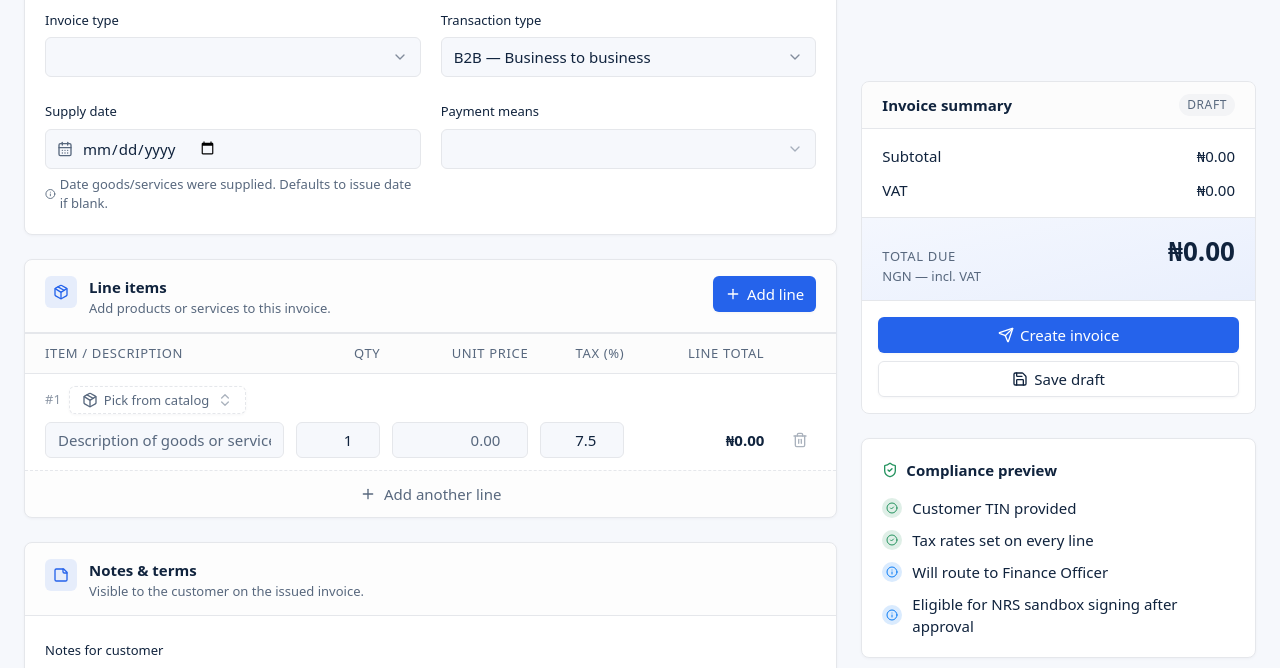
Test: CreateInvoice catalog product description adoption › falls back to product.name when product has no description
The width and height of the screenshot is (1280, 668).
(page scrolled)
What coordinates should you click on to do the following:
click the dropdown "Pick from catalog"
I would click on:
 (158, 400)
Its box is [69,386,246,414].
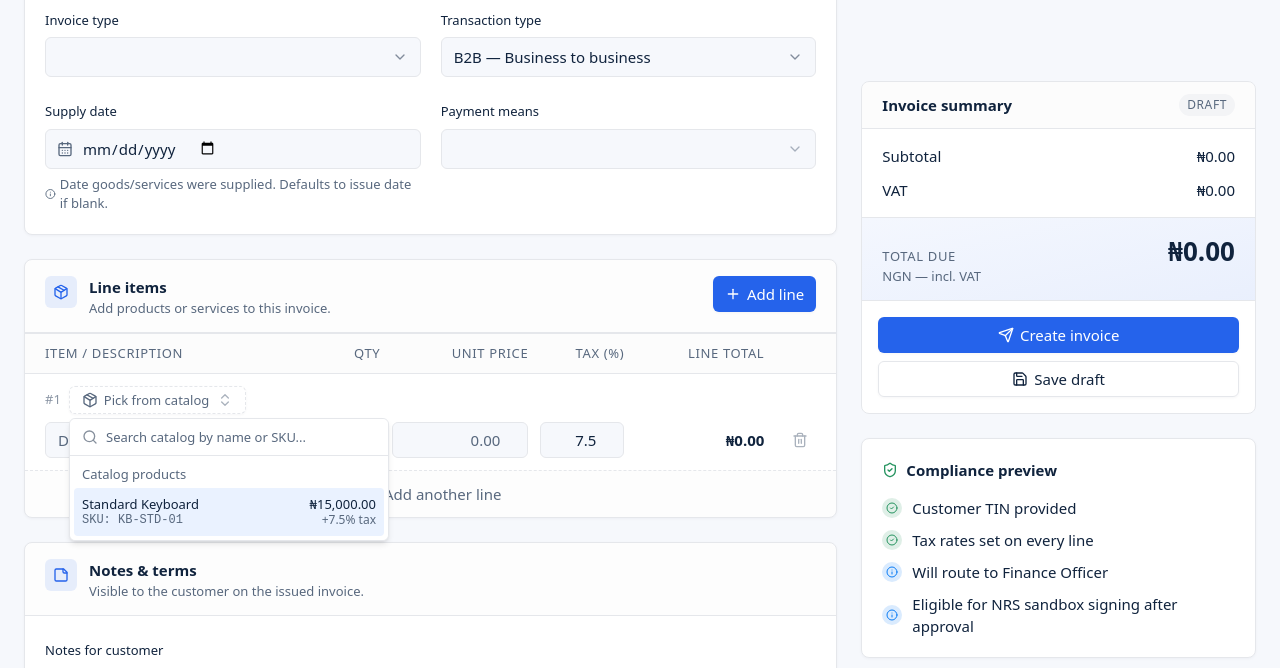
What coordinates should you click on to do the following:
click the text "Standard Keyboard"
I would click on:
 (140, 504)
Its box is [82,496,199,512].
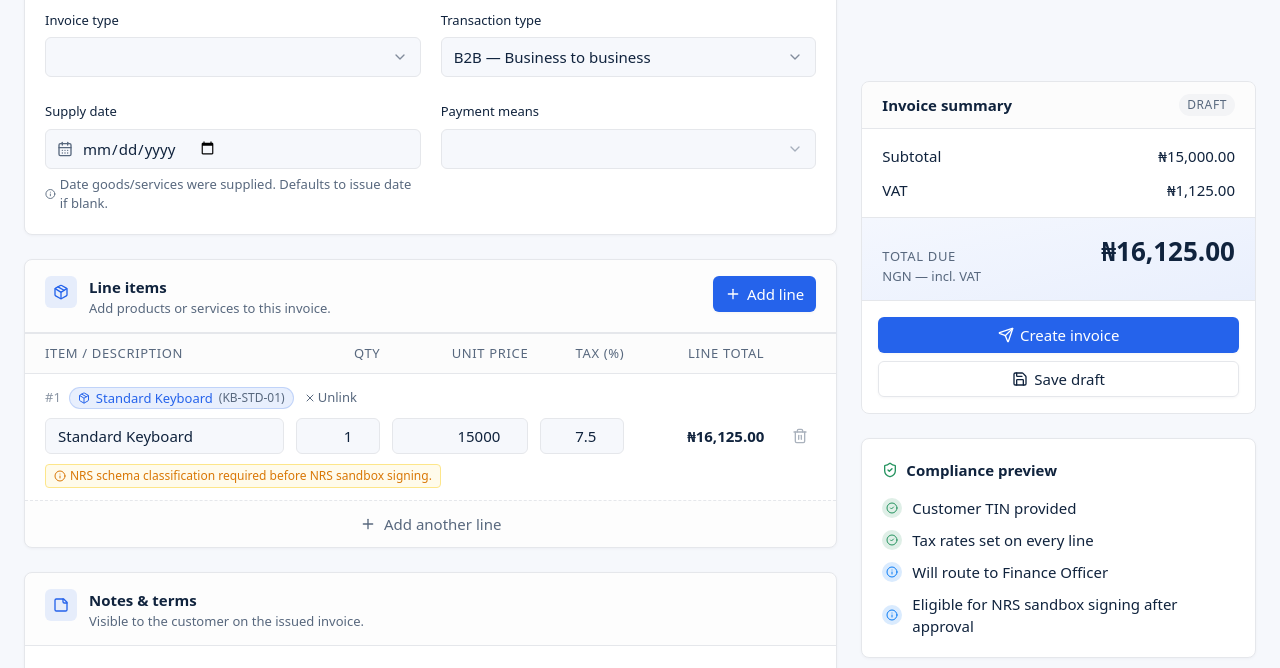
Check: the field showing "Standard Keyboard" is shown, box [45,418,284,454]
